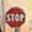stop: (4, 5, 26, 27)
